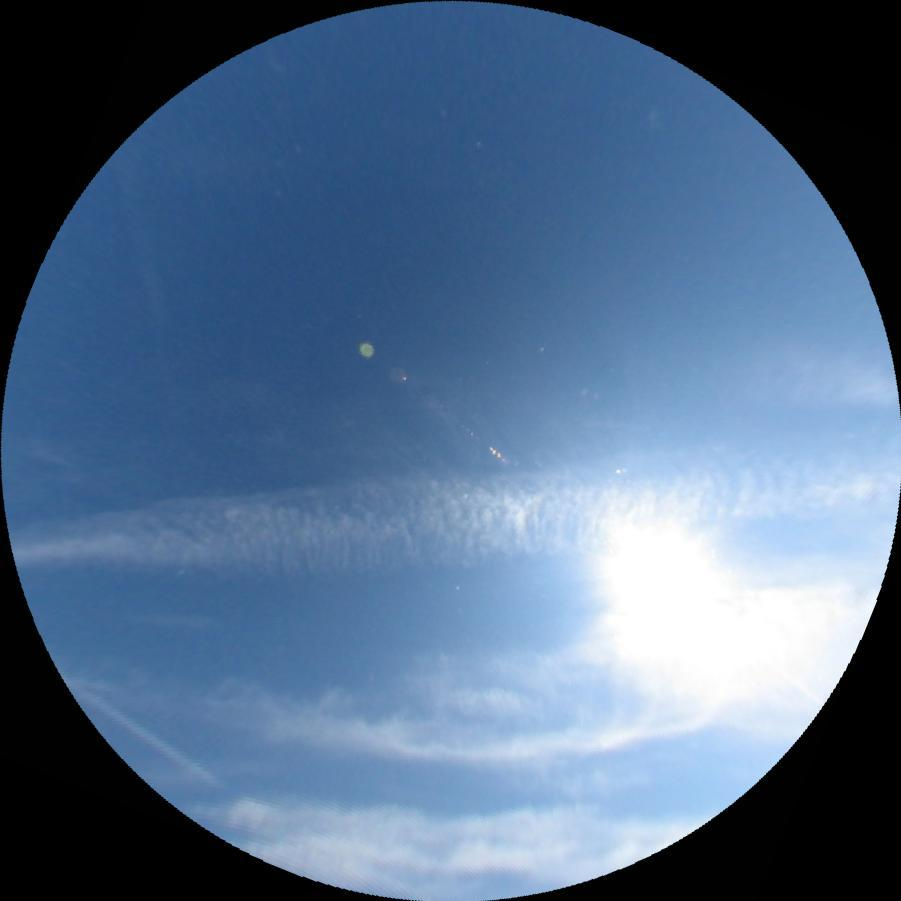contrail young: (55, 670, 222, 788)
sun: (583, 507, 741, 658)
